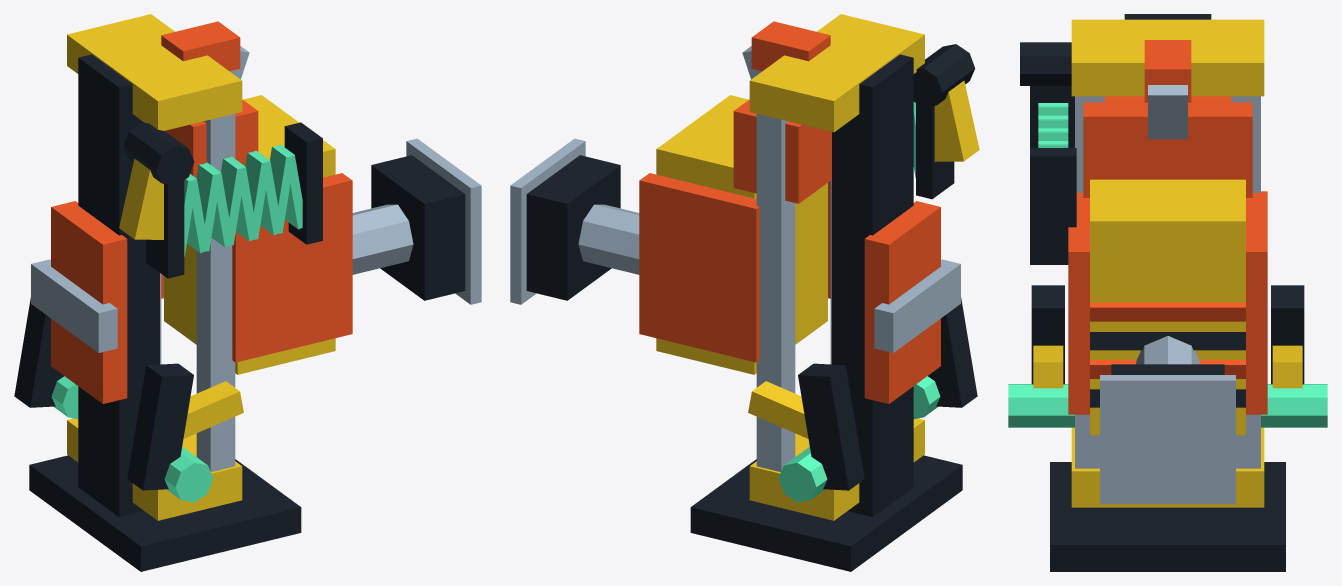
Rendered from pile-driver-v1-B9tYRbxo.glb.
The picture shows the model from 3 angles, left to right: view 1: azimuth 30°, elevation 25°; view 2: azimuth 150°, elevation 25°; view 3: azimuth 270°, elevation 25°; orthographic projection. The views are drawn at different scales.
Parts seen in each view (by area): view 1: PDV1_BackSpine, PDV1_HammerCheek_L, PDV1_BaseSkid, PDV1_TopBridge, PDV1_HarnessPlate, PDV1_ImpactHead, PDV1_Rail_L, PDV1_Handle_L_Stem, PDV1_HammerBlock, PDV1_HarnessBuckle, PDV1_Ram, PDV1_BottomBridge (+20 smaller); view 2: PDV1_BackSpine, PDV1_HammerCheek_R, PDV1_BaseSkid, PDV1_Rail_R, PDV1_HammerBlock, PDV1_TopBridge, PDV1_HarnessPlate, PDV1_ImpactHead, PDV1_Handle_R_Stem, PDV1_CockingCarriage, PDV1_HarnessBuckle, PDV1_Ram (+10 smaller); view 3: PDV1_HammerBlock, PDV1_ImpactFace, PDV1_BaseSkid, PDV1_CockingCarriage, PDV1_TopBridge, PDV1_SpringSeat_Front, PDV1_HammerCheek_R, PDV1_HammerCheek_L, PDV1_BottomBridge, PDV1_HazardStripe_4, PDV1_Handle_L_Grip, PDV1_Handle_R_Grip (+15 smaller).
Boxes of the visible parts, x1=… form: PDV1_BackSpine: x1=78, y1=54, x2=159, y2=516; PDV1_HammerCheek_L: x1=232, y1=173, x2=352, y2=362; PDV1_BaseSkid: x1=29, y1=455, x2=301, y2=571; PDV1_TopBridge: x1=67, y1=14, x2=242, y2=130; PDV1_HarnessPlate: x1=51, y1=201, x2=127, y2=403; PDV1_ImpactHead: x1=371, y1=155, x2=465, y2=300; PDV1_Rail_L: x1=196, y1=113, x2=235, y2=471; PDV1_Handle_L_Stem: x1=127, y1=363, x2=193, y2=490; PDV1_HammerBlock: x1=164, y1=95, x2=335, y2=374; PDV1_HarnessBuckle: x1=31, y1=259, x2=117, y2=352; PDV1_Ram: x1=352, y1=204, x2=413, y2=274; PDV1_BottomBridge: x1=67, y1=418, x2=242, y2=520; PDV1_BackSpine: x1=832, y1=54, x2=913, y2=516; PDV1_HammerCheek_R: x1=639, y1=173, x2=759, y2=362; PDV1_BaseSkid: x1=690, y1=455, x2=962, y2=571; PDV1_Rail_R: x1=756, y1=113, x2=795, y2=471; PDV1_HammerBlock: x1=656, y1=95, x2=827, y2=374; PDV1_TopBridge: x1=749, y1=14, x2=924, y2=132; PDV1_HarnessPlate: x1=864, y1=201, x2=940, y2=403; PDV1_ImpactHead: x1=526, y1=155, x2=620, y2=300; PDV1_Handle_R_Stem: x1=798, y1=363, x2=864, y2=490; PDV1_CockingCarriage: x1=733, y1=99, x2=831, y2=203; PDV1_HarnessBuckle: x1=874, y1=259, x2=960, y2=352; PDV1_Ram: x1=578, y1=204, x2=639, y2=274; PDV1_HammerBlock: x1=1090, y1=179, x2=1245, y2=435; PDV1_ImpactFace: x1=1100, y1=375, x2=1235, y2=503; PDV1_BaseSkid: x1=1050, y1=462, x2=1285, y2=571; PDV1_CockingCarriage: x1=1083, y1=96, x2=1252, y2=197; PDV1_TopBridge: x1=1071, y1=19, x2=1264, y2=96; PDV1_SpringSeat_Front: x1=1030, y1=148, x2=1076, y2=264; PDV1_HammerCheek_R: x1=1246, y1=191, x2=1267, y2=414; PDV1_HammerCheek_L: x1=1068, y1=193, x2=1089, y2=414; PDV1_BottomBridge: x1=1071, y1=427, x2=1264, y2=507; PDV1_HazardStripe_4: x1=1090, y1=302, x2=1245, y2=321; PDV1_Handle_L_Grip: x1=1008, y1=384, x2=1074, y2=427; PDV1_Handle_R_Grip: x1=1261, y1=384, x2=1327, y2=427.
Size of the model in its own units: 2.83 by 3.28 by 1.92.
